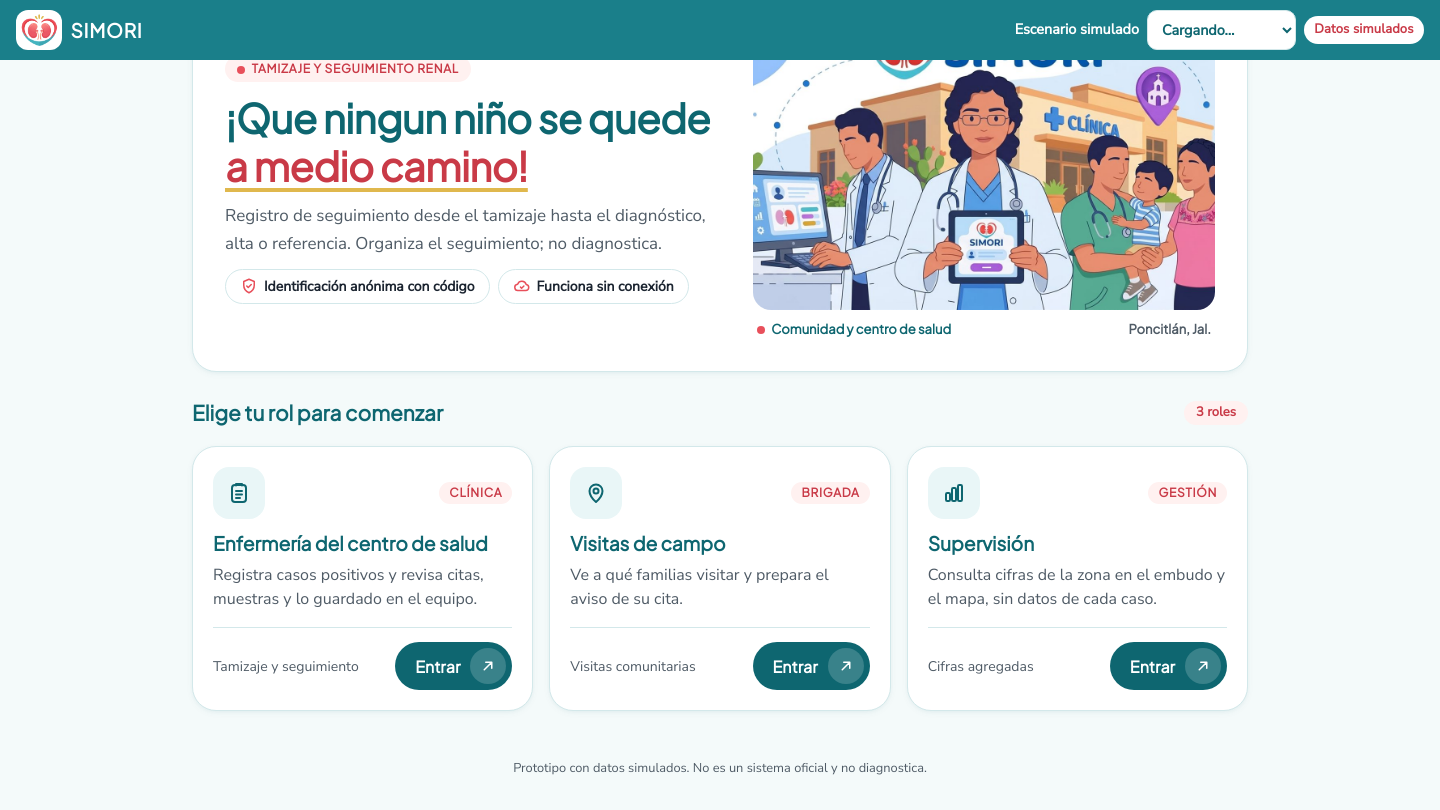
Test: App › "/" muestra el inicio y al elegir un rol abre su primera pantalla y lo recuerda
(page scrolled)
Click the button with aria-label "Entrar como Visitas de campo".
click(811, 666)  # box x1=752 y1=642 x2=870 y2=690
(page scrolled)
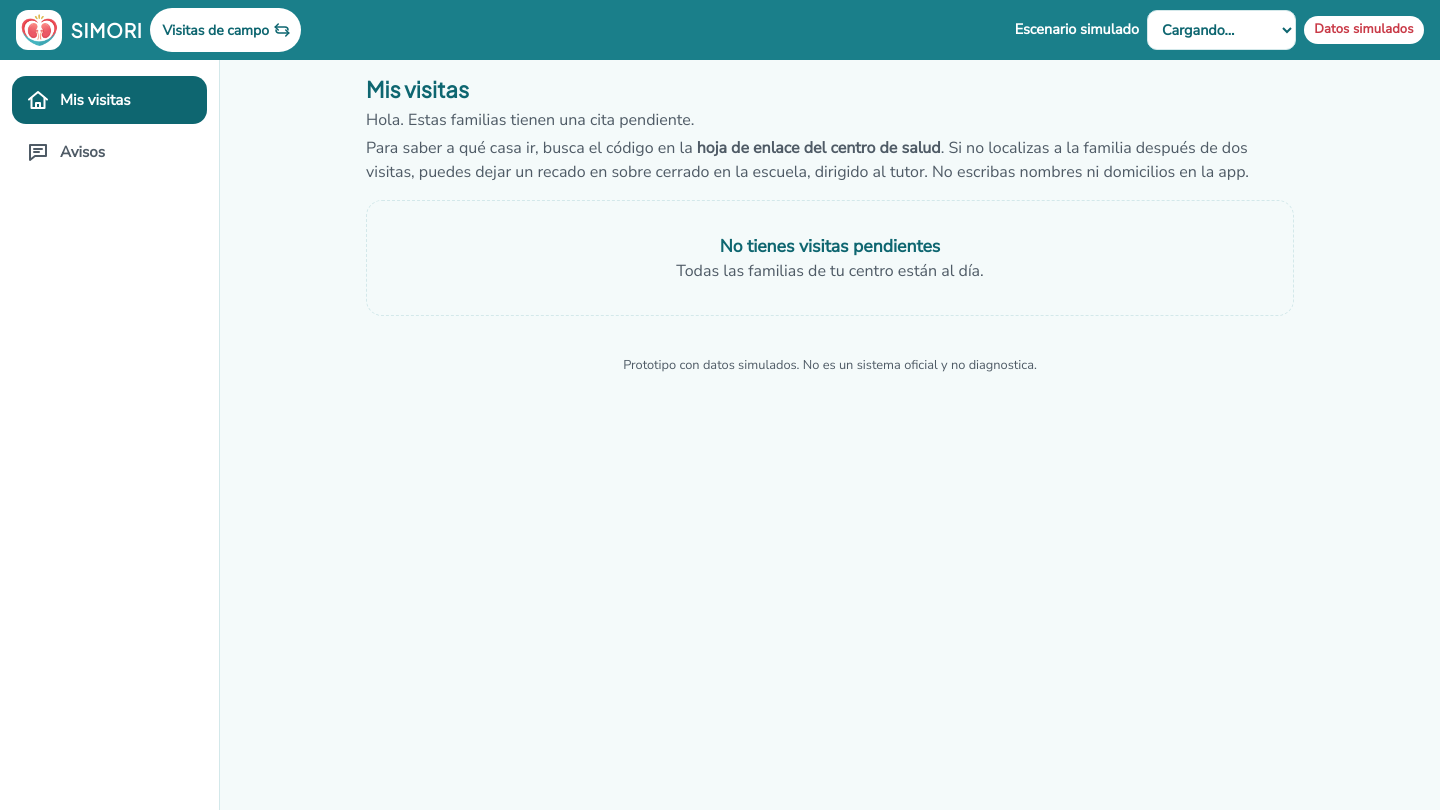
Result: the link "Mis visitas" is shown at x1=12 y1=76 x2=207 y2=124
